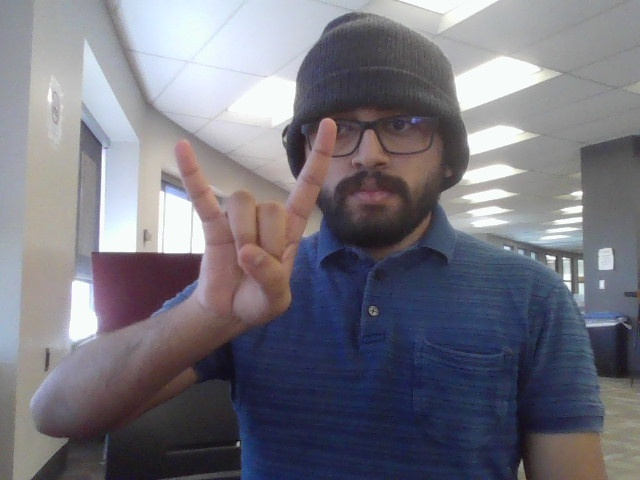help: (164, 109, 355, 354)
